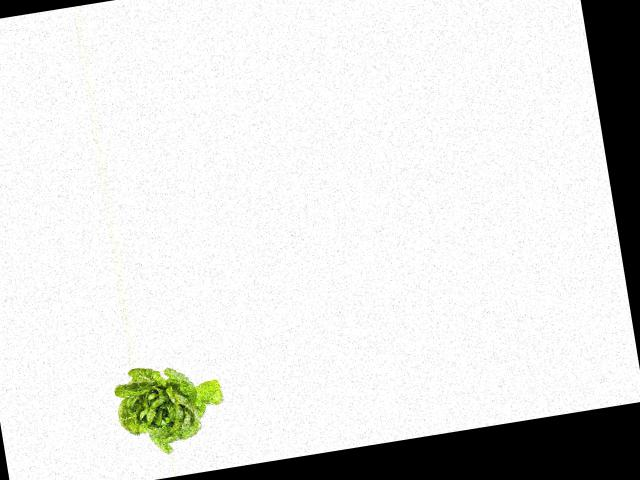lettuce: (110, 357, 234, 461)
